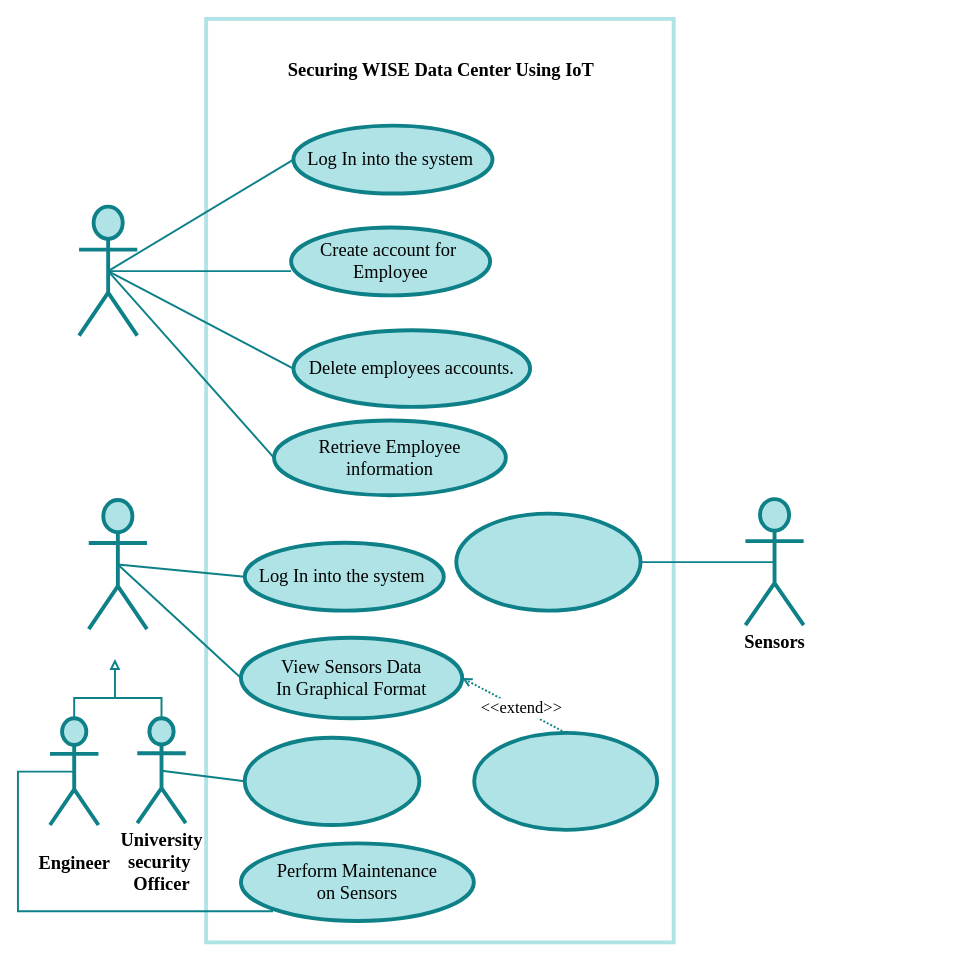
The diagram is 976 pixels wide and 960 high, and some of its shapes have lost their labels. The centre of each missing label's shape, as x and y in pixels:
Admin: [108,270]
Employee: [117,564]
Provides Sensor Data to System: [548,561]
Retrieve System Alerts: [331,780]
View sensors data as a tables: [565,780]
